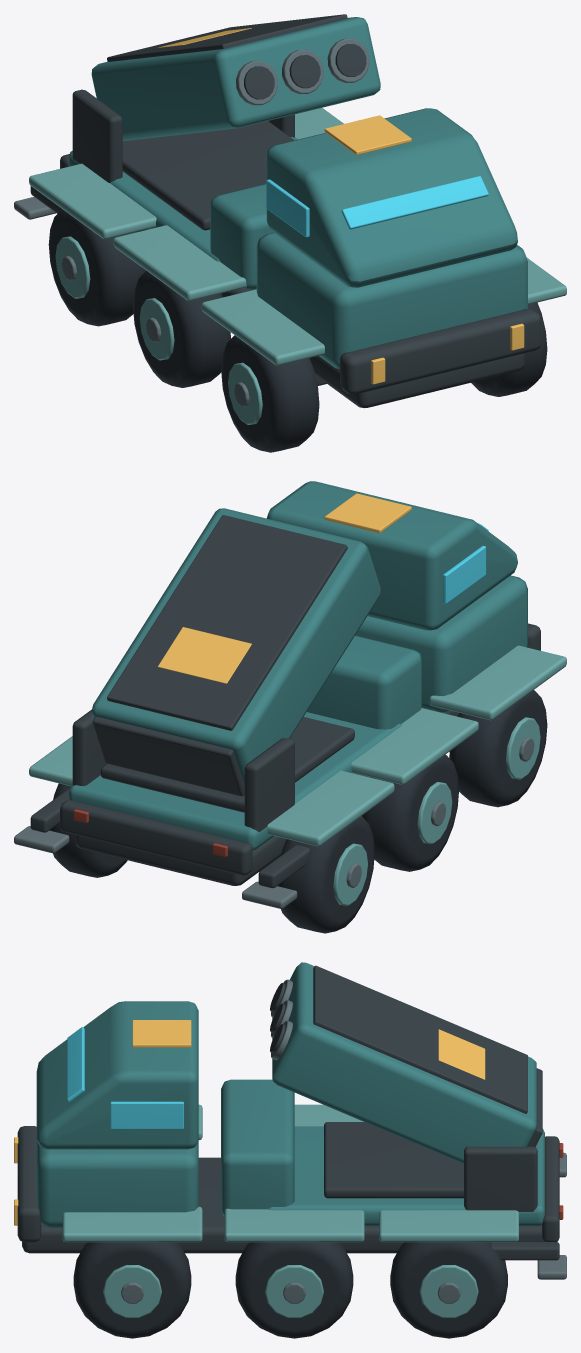
Rendered from meridian-rocket.glb.
3 views of the same model, one above another, from view 1: azimuth 30°, elevation 25°; view 2: azimuth 150°, elevation 25°; view 3: azimuth 270°, elevation 25° (orthographic). The views are drawn at different scales.
Visible parts, largest first — view 1: RocketBodyMesh, LauncherMesh, WheelFrontLeftMesh, WheelMiddleLeftMesh, WheelRearLeftMesh, WheelFrontRightMesh; view 2: RocketBodyMesh, LauncherMesh, WheelFrontLeftMesh, WheelMiddleLeftMesh, WheelRearLeftMesh, WheelRearRightMesh; view 3: RocketBodyMesh, LauncherMesh, WheelMiddleRightMesh, WheelFrontRightMesh, WheelRearRightMesh.
Boxes of the visible parts, left/top/right/bottom form: RocketBodyMesh: left=14, top=89, right=566, bottom=408; LauncherMesh: left=91, top=14, right=380, bottom=141; WheelFrontLeftMesh: left=221, top=335, right=319, bottom=452; WheelMiddleLeftMesh: left=133, top=271, right=230, bottom=387; WheelRearLeftMesh: left=48, top=209, right=146, bottom=326; WheelFrontRightMesh: left=471, top=302, right=547, bottom=396; RocketBodyMesh: left=14, top=481, right=566, bottom=908; LauncherMesh: left=91, top=508, right=380, bottom=796; WheelFrontLeftMesh: left=449, top=690, right=547, bottom=807; WheelMiddleLeftMesh: left=362, top=754, right=458, bottom=871; WheelRearLeftMesh: left=277, top=816, right=374, bottom=933; WheelRearRightMesh: left=49, top=783, right=127, bottom=877; RocketBodyMesh: left=14, top=1001, right=566, bottom=1279; LauncherMesh: left=270, top=962, right=542, bottom=1163; WheelMiddleRightMesh: left=235, top=1242, right=353, bottom=1338; WheelFrontRightMesh: left=73, top=1242, right=191, bottom=1338; WheelRearRightMesh: left=390, top=1242, right=507, bottom=1338.
Size of the model in its own units: 2.1 by 2.17 by 3.75.
